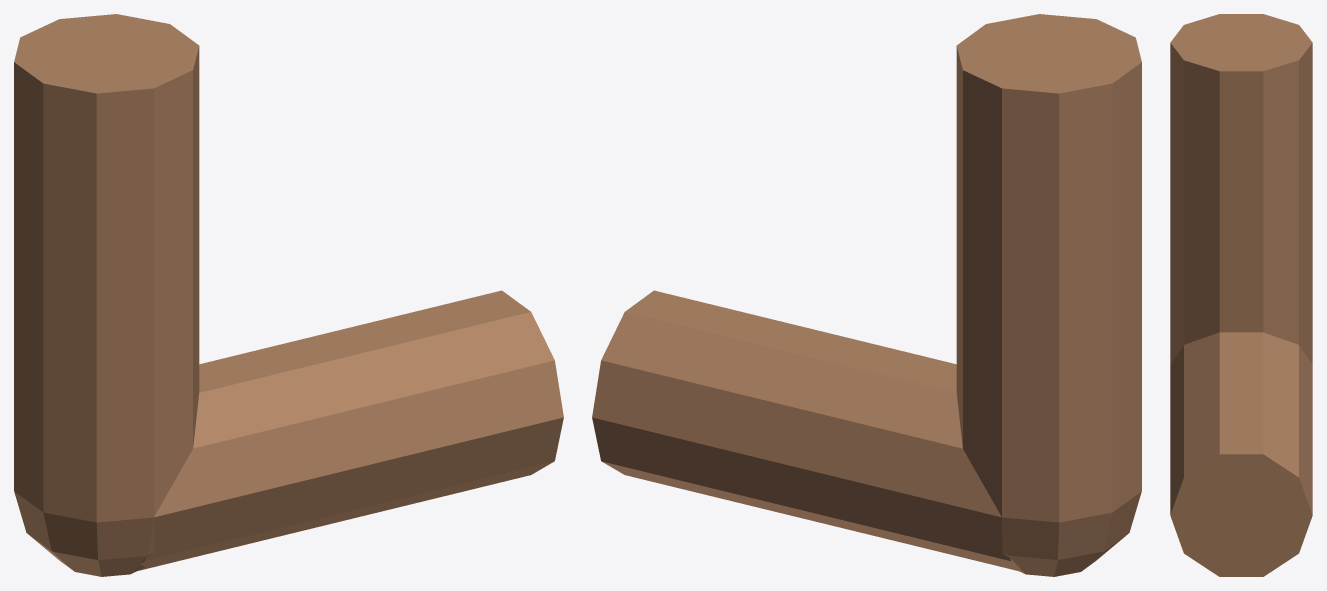
Rendered from pipe_corner.glb.
3 renders of one model, left to right at view 1: azimuth 30°, elevation 25°; view 2: azimuth 150°, elevation 25°; view 3: azimuth 270°, elevation 25°, orthographic. The views are drawn at different scales.
Visible parts, largest first — view 1: pipe_corner; view 2: pipe_corner; view 3: pipe_corner.
Part boxes in pixels (<box>): pipe_corner: <box>14,14,563,576</box>; pipe_corner: <box>592,14,1141,576</box>; pipe_corner: <box>1170,14,1312,576</box>.
Size of what is drawn, in the model's own units: 1.19 by 1.2 by 0.4.
